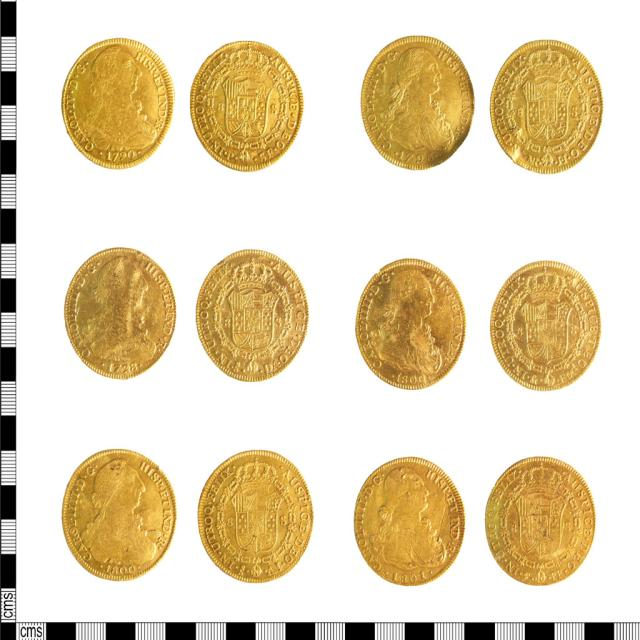Coin: (359, 33, 476, 175), (196, 449, 314, 583), (60, 449, 177, 583), (186, 39, 305, 170), (487, 39, 602, 173), (61, 36, 174, 171), (63, 247, 177, 380), (489, 260, 602, 393), (196, 247, 308, 381), (353, 258, 465, 391), (353, 455, 465, 587), (484, 455, 596, 587)
